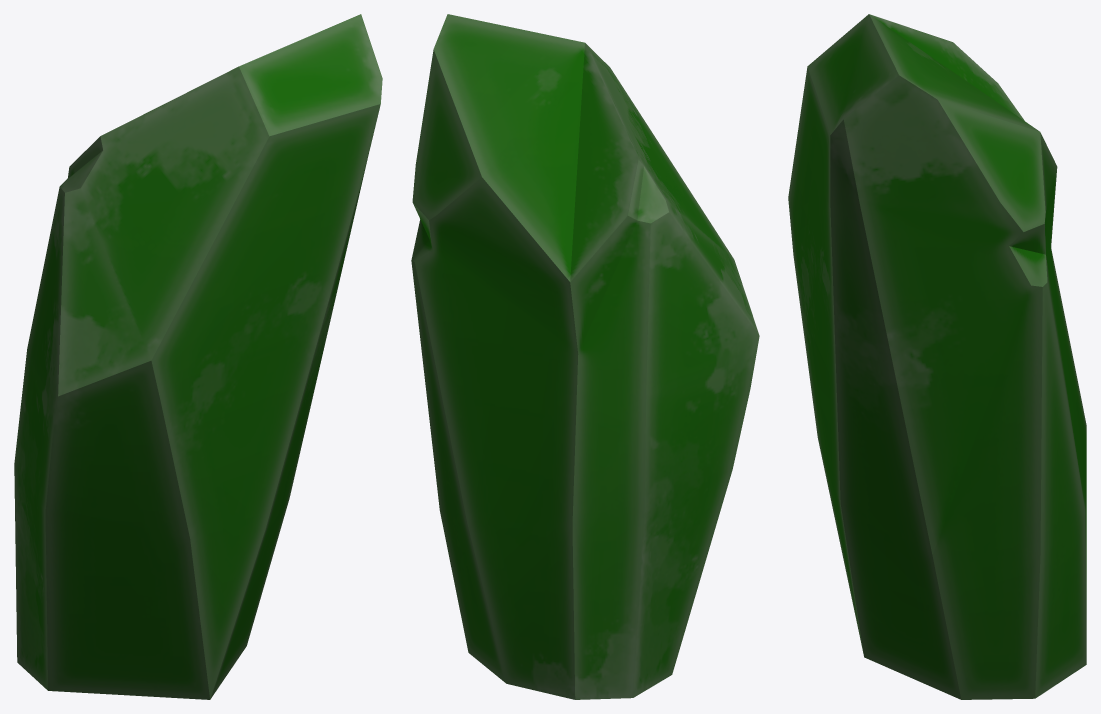
Rendered from Rock_06_01.fbx.
3 renders of one model, left to right at view 1: azimuth 30°, elevation 25°; view 2: azimuth 150°, elevation 25°; view 3: azimuth 270°, elevation 25°, orthographic. The views are drawn at different scales.
Visible parts, largest first — view 1: Rock_06_01; view 2: Rock_06_01; view 3: Rock_06_01.
Boxes of the visible parts, <box> form: Rock_06_01: <box>14,14,382,699</box>; Rock_06_01: <box>411,14,759,699</box>; Rock_06_01: <box>788,14,1086,699</box>.
Bounding box in the file's own units: 1.16 × 2.18 × 0.8819.
